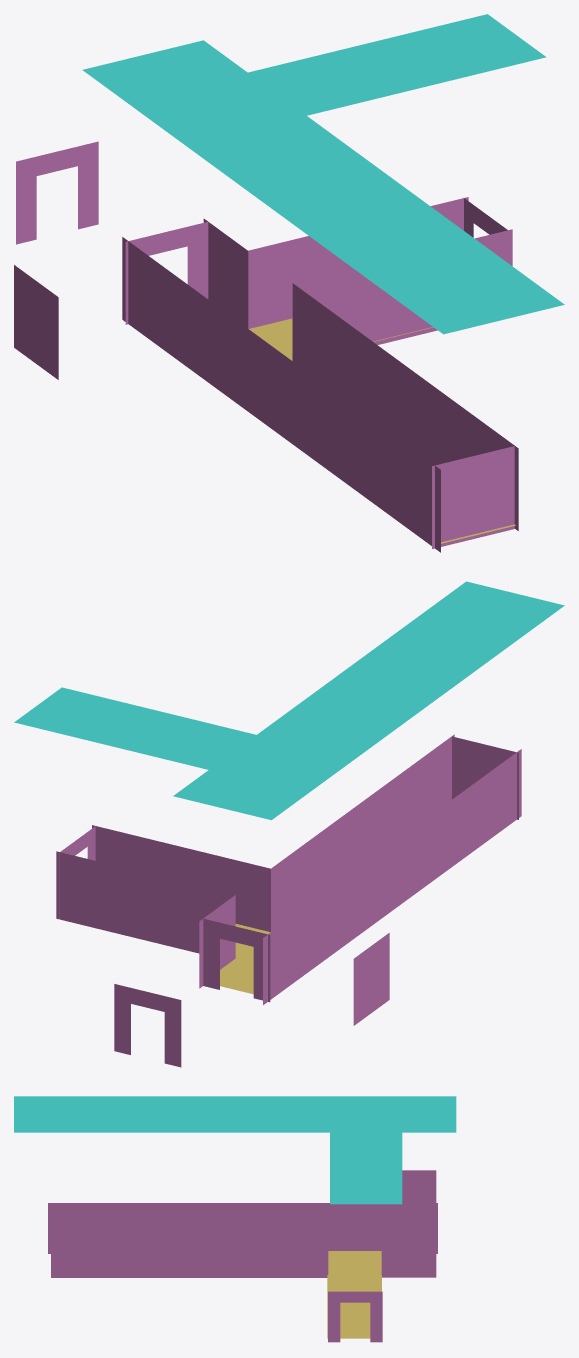
Rendered from 1floor_edit.fbx.
3 renders of one model, top to bottom at view 1: azimuth 30°, elevation 25°; view 2: azimuth 150°, elevation 25°; view 3: azimuth 270°, elevation 25°, orthographic. The views are drawn at different scales.
Visible parts, largest first — view 1: Plane, Cube, Plane.001, Plane.002, Cube.001; view 2: Plane, Cube, Plane.001, Plane.002, Cube.001; view 3: Plane, Cube, Cube.001, Plane.002.
Part boxes in pixels (<box>): Plane: <box>122,197,518,552</box>; Cube: <box>82,14,564,334</box>; Plane.001: <box>16,141,98,244</box>; Plane.002: <box>14,265,58,379</box>; Cube.001: <box>249,318,515,543</box>; Plane: <box>56,734,521,1004</box>; Cube: <box>14,581,564,820</box>; Plane.001: <box>114,984,181,1067</box>; Plane.002: <box>353,933,389,1025</box>; Cube.001: <box>220,924,270,994</box>; Plane: <box>48,1203,437,1342</box>; Cube: <box>14,1096,456,1204</box>; Cube.001: <box>327,1251,381,1338</box>; Plane.002: <box>402,1170,436,1202</box>.
Size of the model in its own units: 1124 by 590 by 1965.
